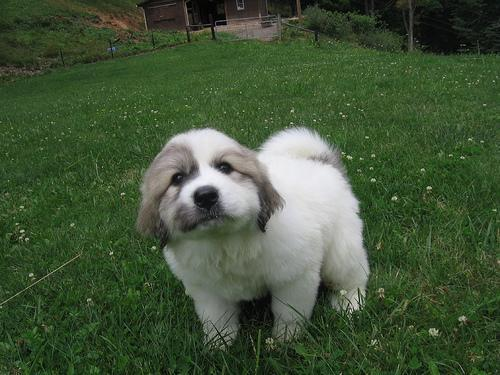Great_Pyrenees: (138, 129, 371, 345)
